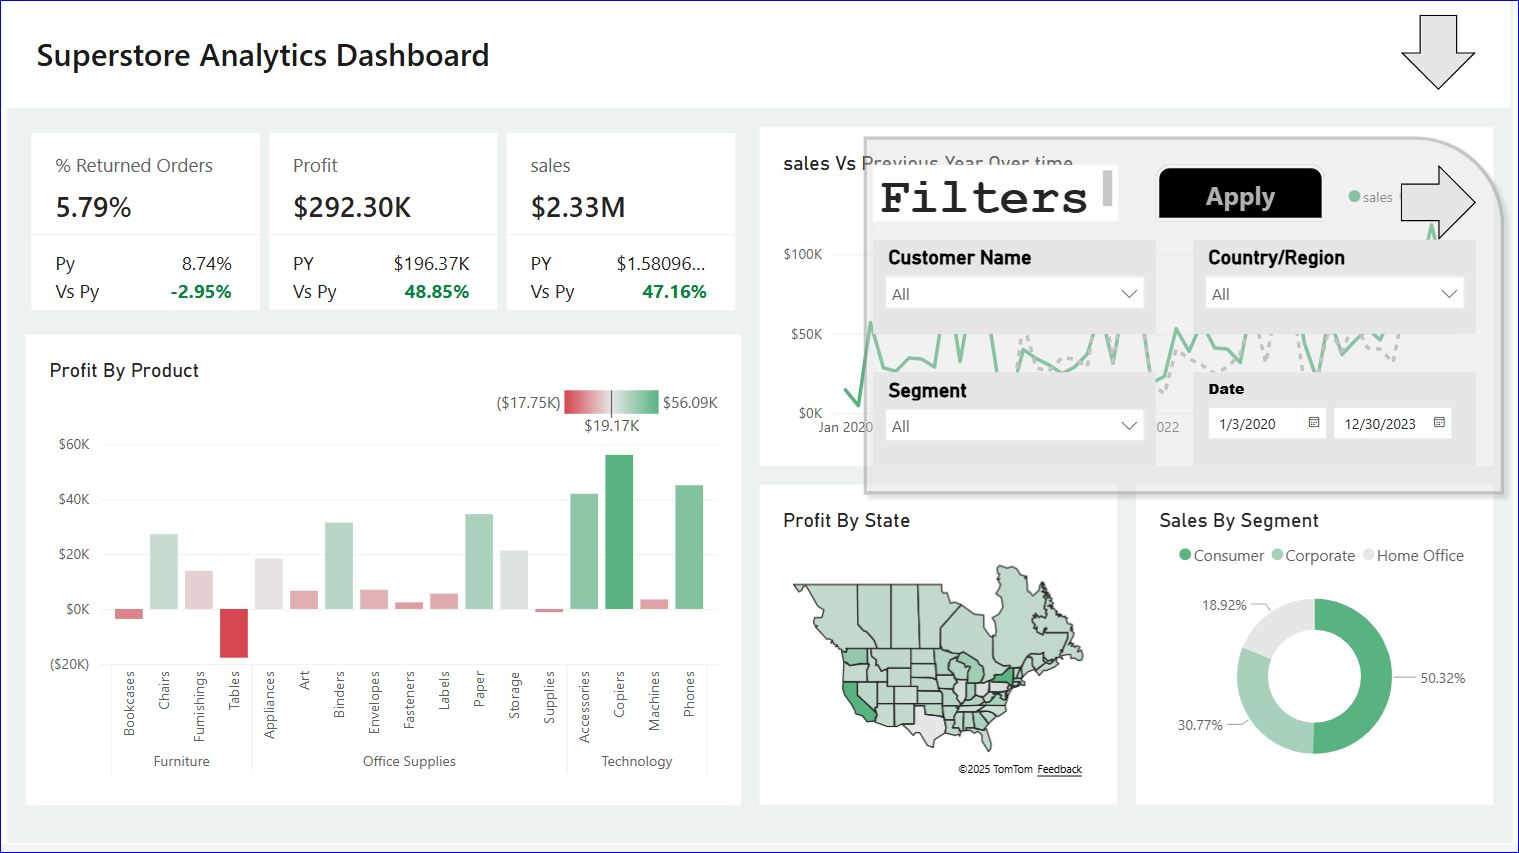

What the dashboard file says about the page in this screenshot:
{"tool":"powerbi","page":{"name":"Page 1","canvas":[1280,720],"ordinal":0},"visuals":[{"type":"cardVisual","fields":{"Data":["Key Measures.% Returned Orders","Key Measures.Profit","Key Measures.sales"]},"box":[16,112,608,160],"z":0},{"type":"shape","box":[0,0,1279.4,95.3],"z":1000},{"type":"shape","title":"Shape Filter","box":[1184,16,64,64],"z":1500,"group":"g1"},{"type":"lineChart","title":"sales Vs Previous Year Over time","fields":{"Y":["Key Measures.sales","Key Measures.Sales PY"],"Category":["Date Table.Start of Month"]},"box":[640,112,624,288],"z":2000},{"type":"columnChart","title":"Profit By Product","fields":{"Category":["Orders.Category","Orders.Sub-Category"],"Y":["Key Measures.Profit"]},"box":[16,288,608,400],"z":3000},{"type":"azureMap","title":"Profit By State","fields":{"Category":["Orders.State/Province"]},"box":[640,416,304,272],"z":4000},{"type":"donutChart","title":"Sales By Segment","fields":{"Y":["Key Measures.sales"],"Category":["Orders.Segment"]},"box":[960,416,304,272],"z":5000},{"type":"group","id":"g1","title":"Filter Pane","box":[720,16,560,416],"z":6000}]}

Visuals, with their boxes in screenshot pixels (x1, y1, x2, y2), scaled from the page's 1280x720 canvas onto the 1519x853 screenshot:
cardVisual - Key Measures.% Returned Orders x Key Measures.Profit: 19:133:741:322
shape: 0:0:1518:113
"Shape Filter" shape: 1405:19:1481:95
"sales Vs Previous Year Over time" lineChart: 760:133:1500:474
"Profit By Product" columnChart: 19:341:741:815
"Profit By State" azureMap: 760:493:1120:815
"Sales By Segment" donutChart: 1139:493:1500:815
"Filter Pane" group: 854:19:1518:512
